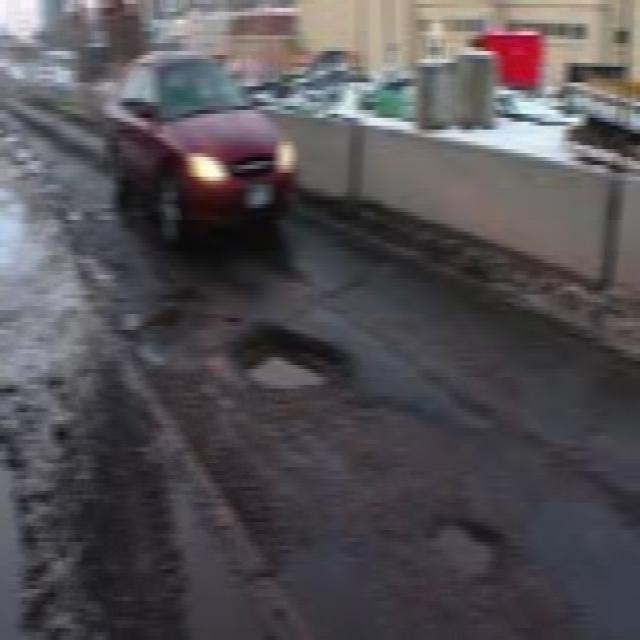Pothole: (148, 451, 372, 640), (0, 144, 91, 397), (0, 419, 65, 640), (212, 313, 352, 392), (417, 516, 508, 582)
